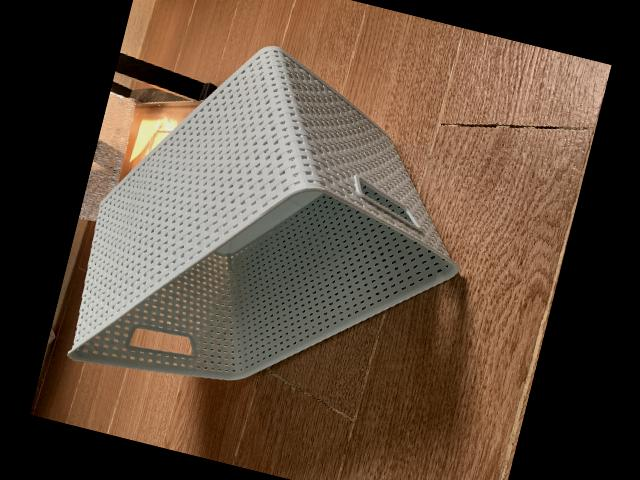cart: (68, 44, 460, 381)
